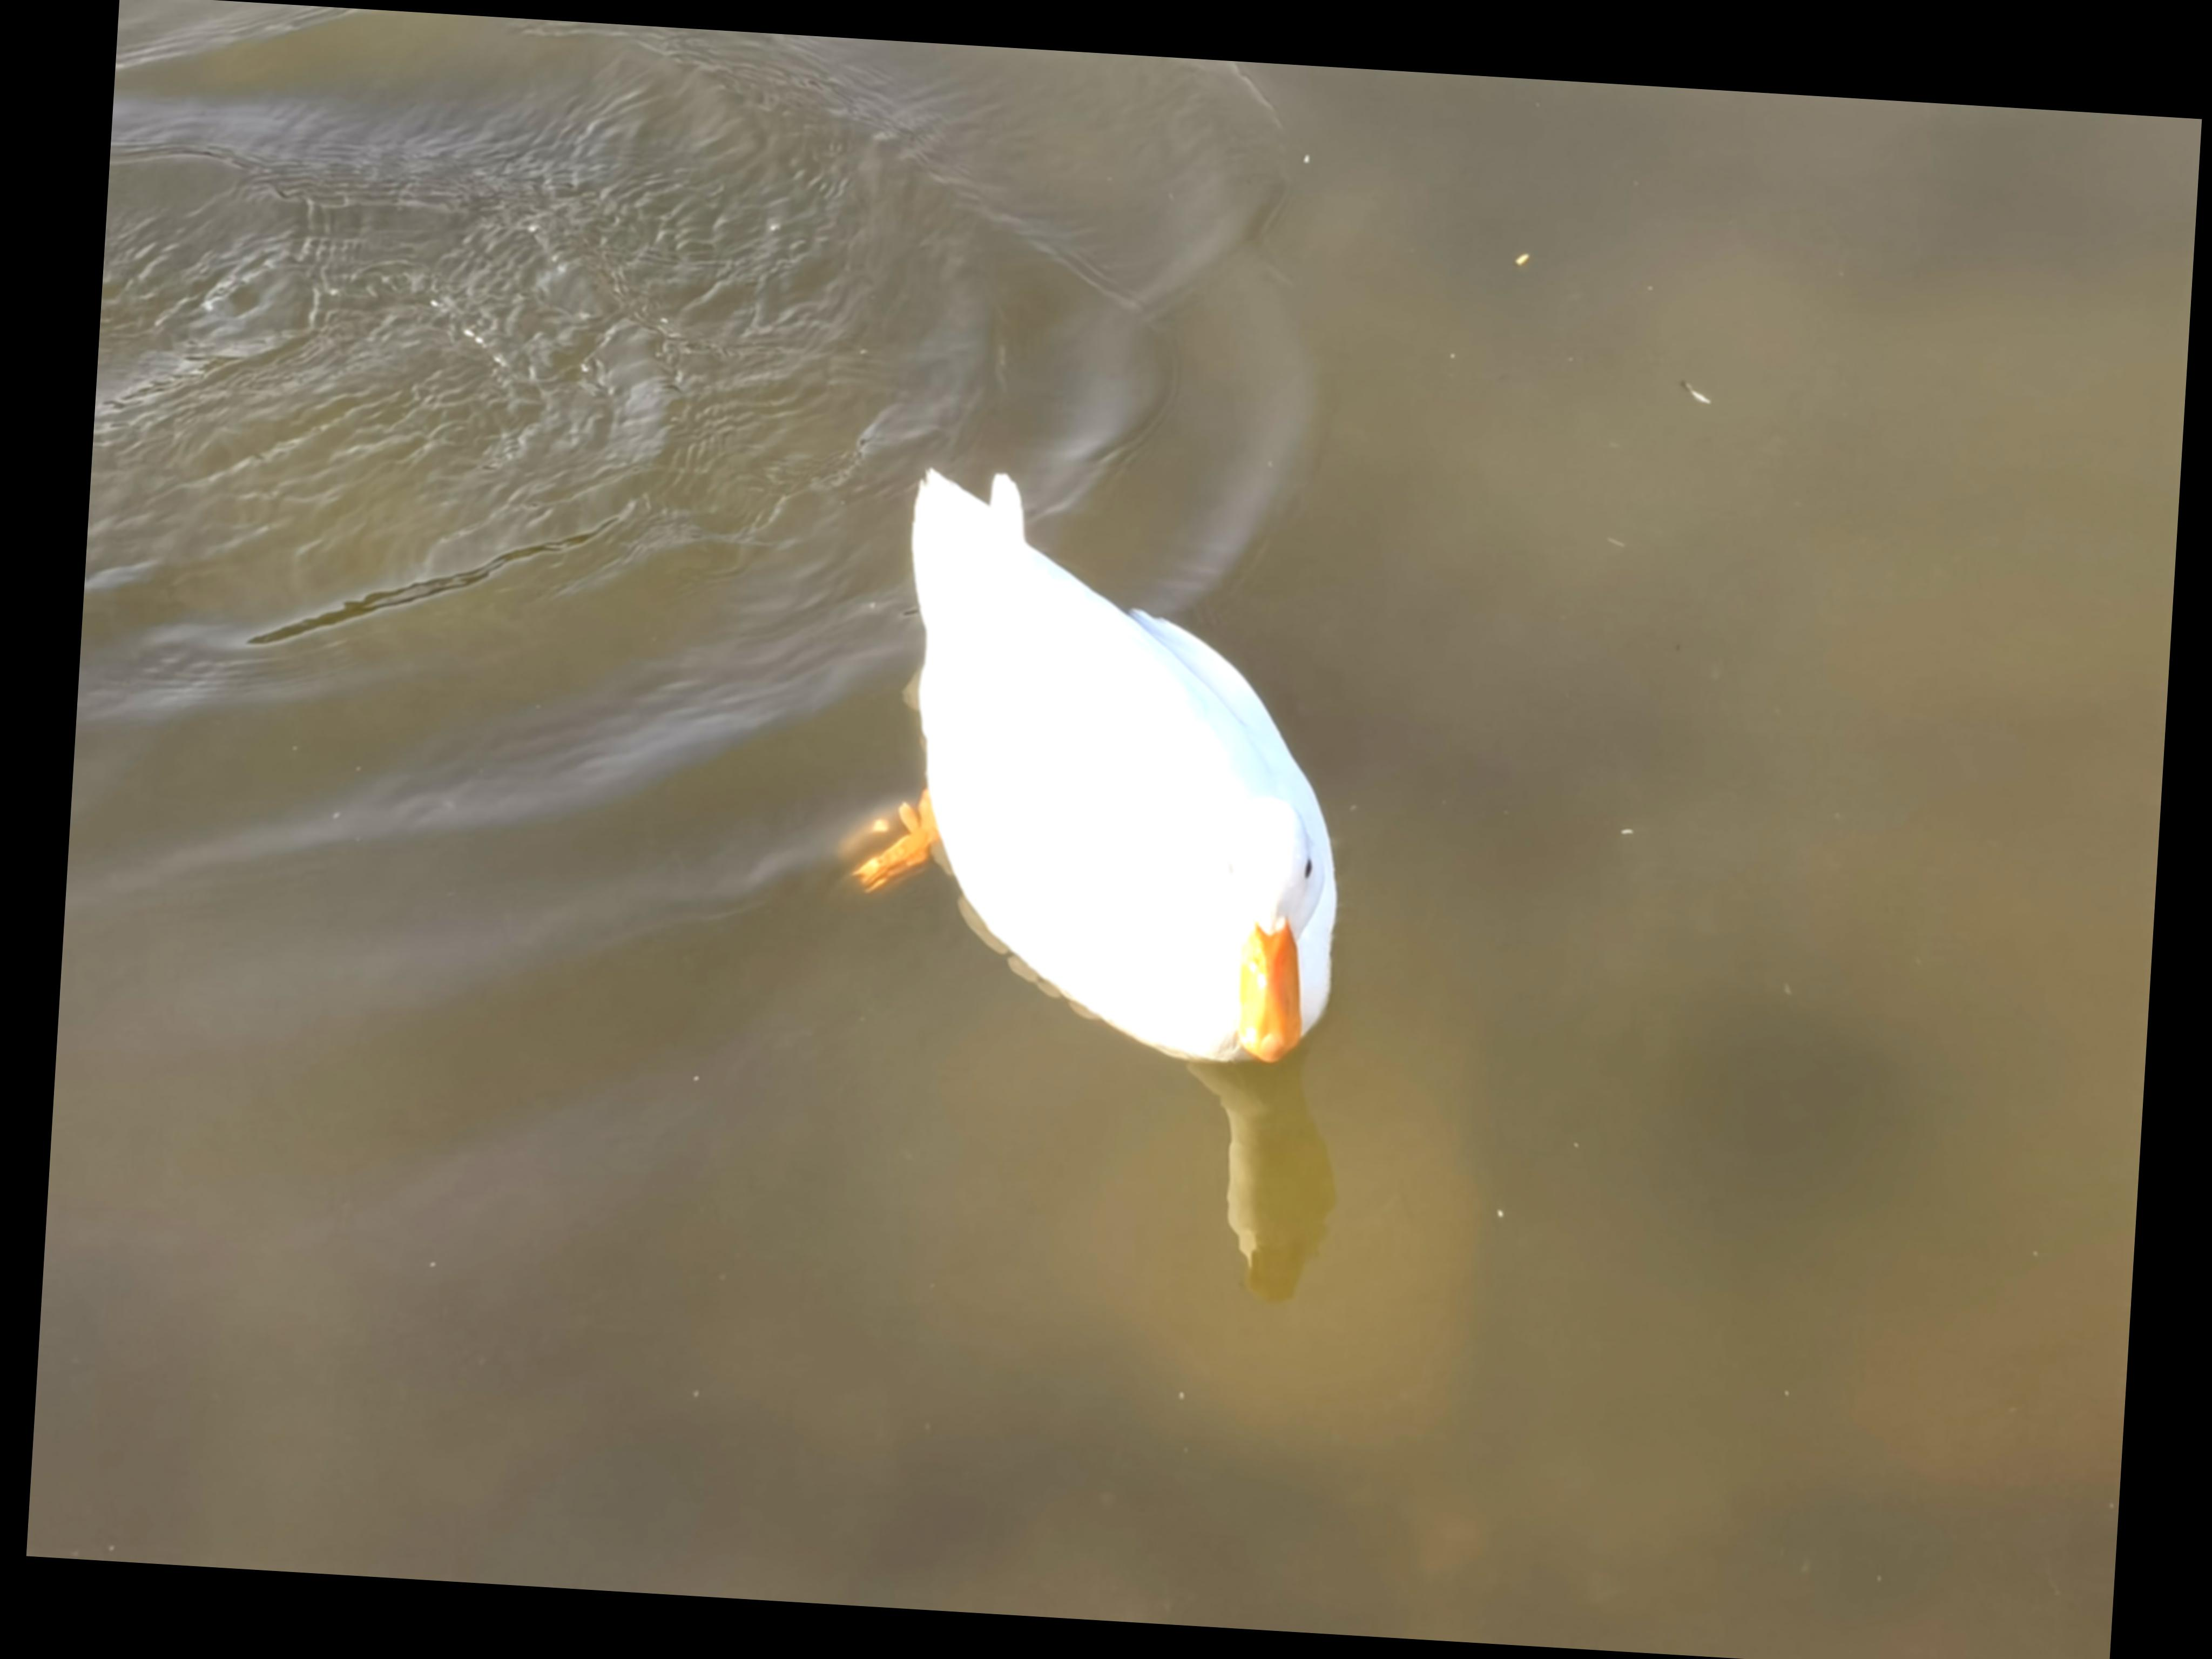duck: (805, 430, 1393, 1087)
